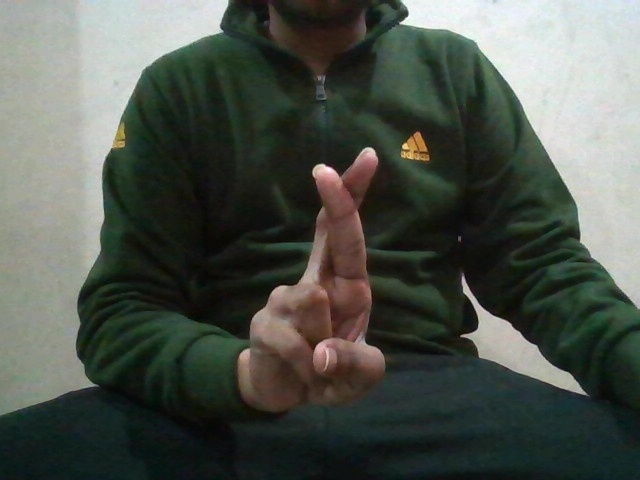R: (255, 143, 399, 407)
